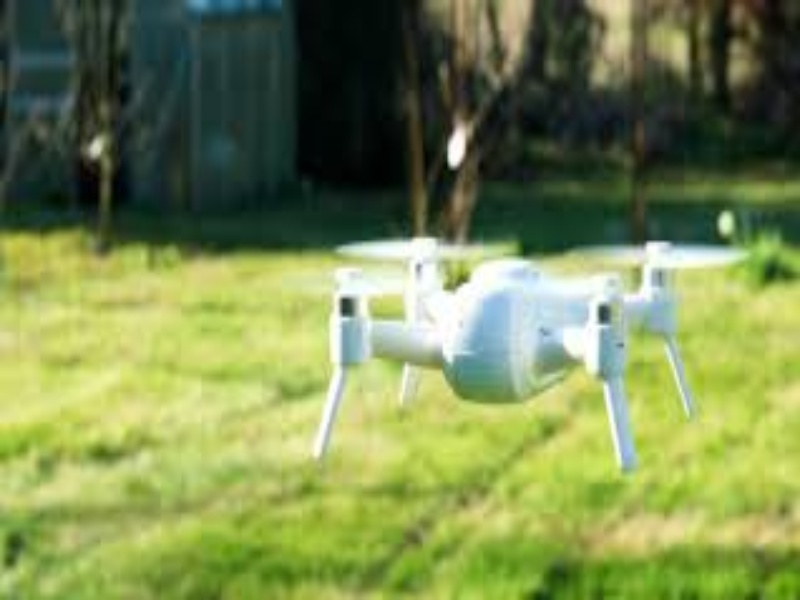drone: (311, 227, 716, 478)
